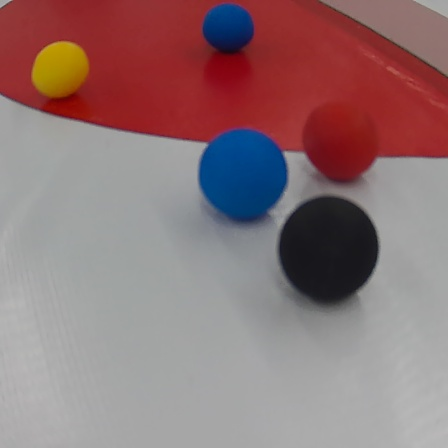black: (274, 194, 383, 311)
blue: (196, 128, 287, 226), (201, 5, 257, 52)
red: (299, 97, 382, 181)
red_base: (0, 0, 446, 161)
yellow: (31, 40, 89, 100)
